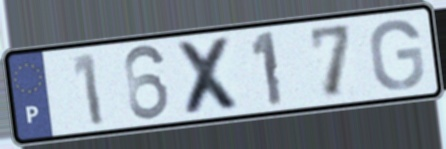1: (249, 28, 286, 110), (70, 50, 106, 128)
6: (122, 42, 172, 124)
7: (307, 21, 356, 102)
G: (367, 17, 427, 93)
X: (172, 34, 247, 118)
